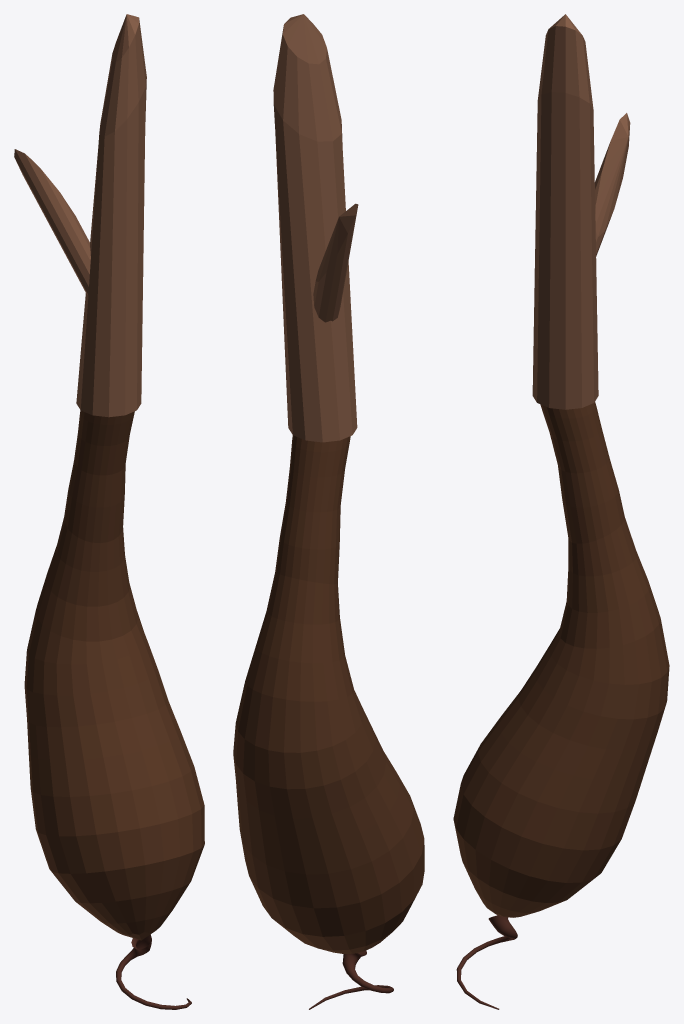
Rendered from Wand 769.glb.
The picture shows the model from 3 angles, left to right: view 1: azimuth 30°, elevation 25°; view 2: azimuth 150°, elevation 25°; view 3: azimuth 270°, elevation 25°; orthographic projection. The views are drawn at different scales.
Parts seen in each view (by area): view 1: GeneratedWand; view 2: GeneratedWand; view 3: GeneratedWand.
Part boxes in pixels (bbox=[...]): GeneratedWand: bbox=[14, 14, 204, 1009]; GeneratedWand: bbox=[233, 14, 424, 1009]; GeneratedWand: bbox=[453, 14, 669, 1009].
Size of the model in its own units: 0.0828 by 0.5174 by 0.1032.
